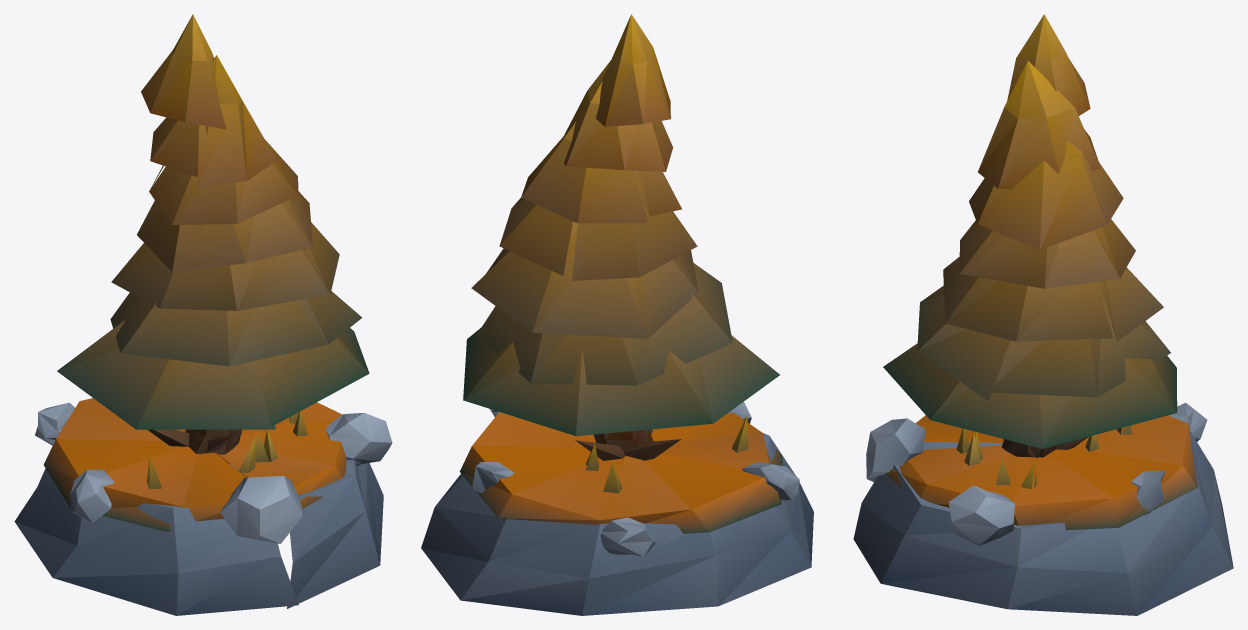
File: pohon_pine_autumn_428889.glb
3 renders of one model, left to right at view 1: azimuth 30°, elevation 25°; view 2: azimuth 150°, elevation 25°; view 3: azimuth 270°, elevation 25°, orthographic. The views are drawn at different scales.
Parts seen in each view (by area): view 1: Dedaunan_Pinus, Pulau_Batu_Tepi_Sungai, Batang_Dan_Akar; view 2: Dedaunan_Pinus, Pulau_Batu_Tepi_Sungai, Batang_Dan_Akar; view 3: Dedaunan_Pinus, Pulau_Batu_Tepi_Sungai, Batang_Dan_Akar.
Boxes of the visible parts, x1,y1,x2,y2 form: Dedaunan_Pinus: (57,14,369,429); Pulau_Batu_Tepi_Sungai: (14,398,392,615); Batang_Dan_Akar: (147,429,241,463); Dedaunan_Pinus: (463,14,779,435); Pulau_Batu_Tepi_Sungai: (421,401,813,615); Batang_Dan_Akar: (575,429,681,460); Dedaunan_Pinus: (883,14,1177,448); Pulau_Batu_Tepi_Sungai: (853,402,1233,615); Batang_Dan_Akar: (1002,437,1087,457).
Bounding box in the file's own units: 5.29 × 8.04 × 5.43.
